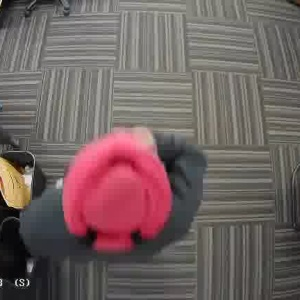person: (22, 123, 200, 265)
